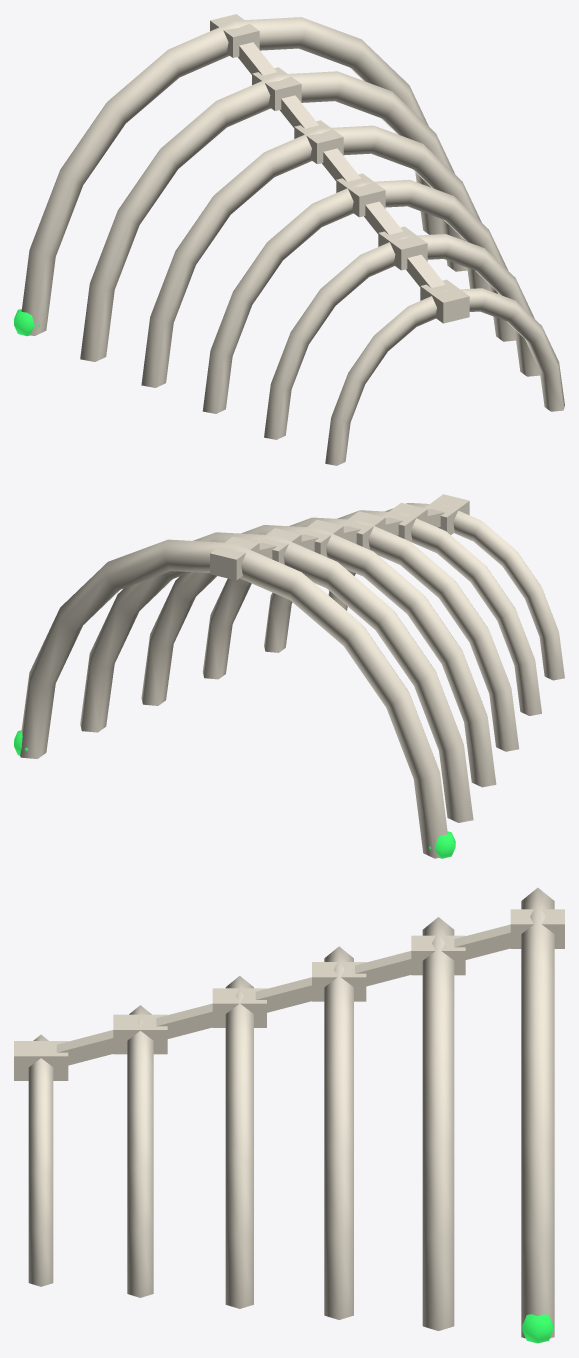
Rendered from ribcage-arch.glb.
3 renders of one model, top to bottom at view 1: azimuth 30°, elevation 25°; view 2: azimuth 150°, elevation 25°; view 3: azimuth 270°, elevation 25°, orthographic. The views are drawn at different scales.
Parts seen in each view (by area): view 1: RibcageArch; view 2: RibcageArch; view 3: RibcageArch.
Part boxes in pixels (<box>): RibcageArch: <box>14,14,564,465</box>; RibcageArch: <box>14,494,564,858</box>; RibcageArch: <box>14,887,564,1343</box>.
Size of the model in its own units: 10 by 5.72 by 9.15.
